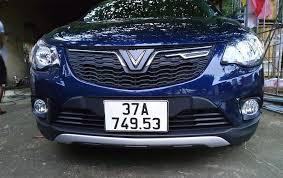number-plate: (104, 101, 169, 132)
